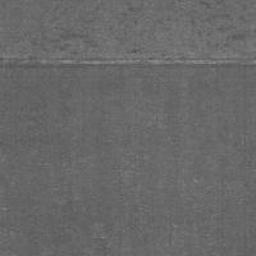Welding line: (0, 55, 256, 68)
